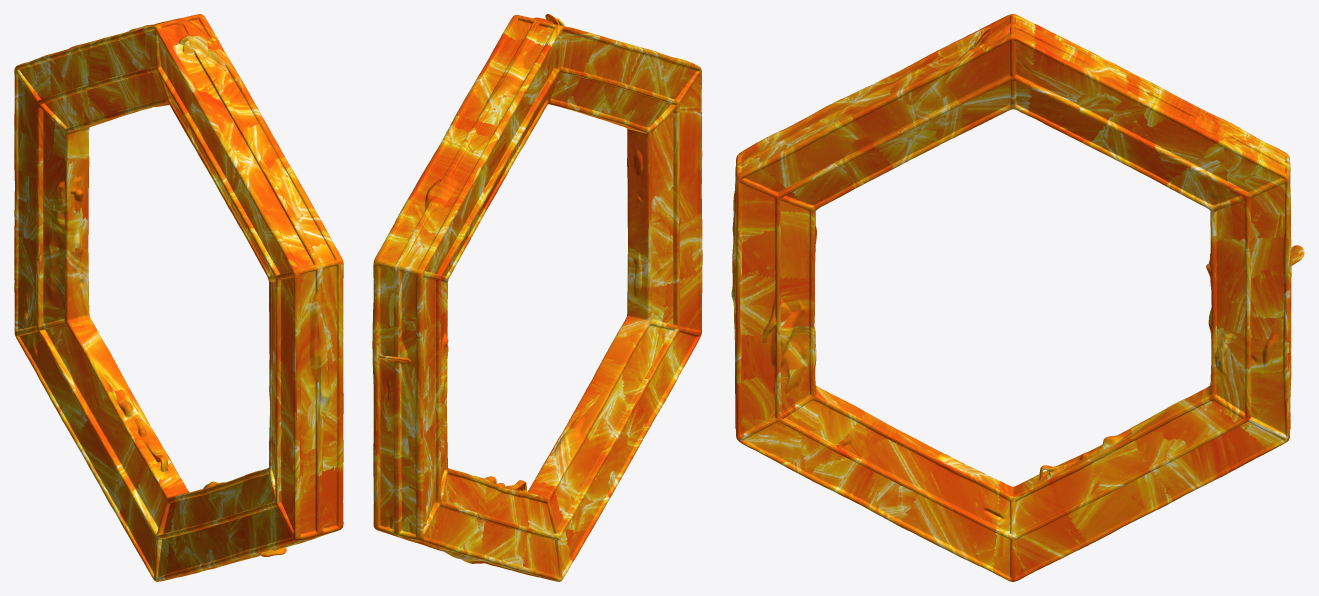
Rendered from portal_single_ring.glb.
3 views of the same model, side by side, from view 1: azimuth 30°, elevation 25°; view 2: azimuth 150°, elevation 25°; view 3: azimuth 270°, elevation 25° (orthographic).
Parts seen in each view (by area): view 1: tripo_node_02f6c1b6-e944-4e85-8e52-bbbc63e19ed4; view 2: tripo_node_02f6c1b6-e944-4e85-8e52-bbbc63e19ed4; view 3: tripo_node_02f6c1b6-e944-4e85-8e52-bbbc63e19ed4.
Part boxes in pixels (x1=…): tripo_node_02f6c1b6-e944-4e85-8e52-bbbc63e19ed4: x1=14, y1=14, x2=343, y2=581; tripo_node_02f6c1b6-e944-4e85-8e52-bbbc63e19ed4: x1=372, y1=14, x2=702, y2=581; tripo_node_02f6c1b6-e944-4e85-8e52-bbbc63e19ed4: x1=731, y1=14, x2=1304, y2=581.
Size of the model in its own units: 0.0945 by 1 by 0.9473.
Materials: 1 (1 with a texture image).
